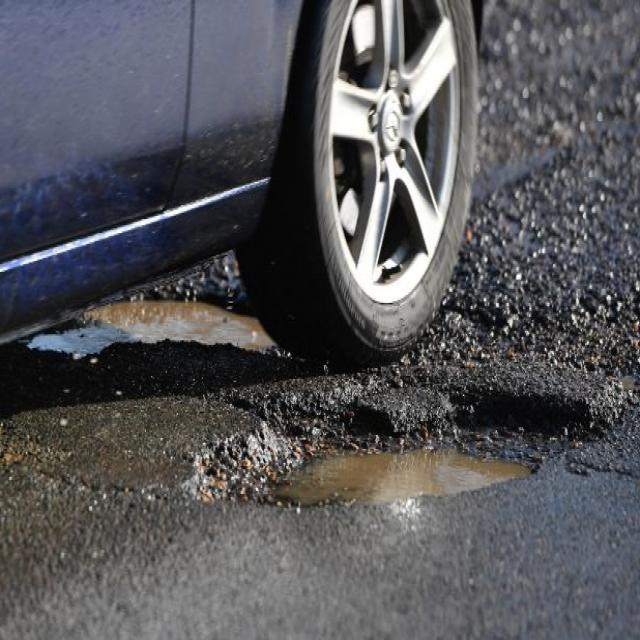pothole: (182, 374, 614, 519)
